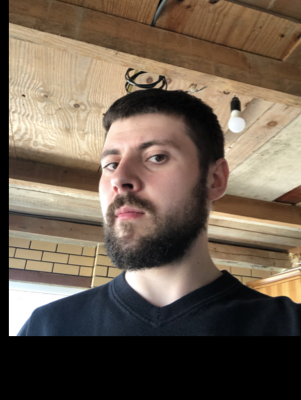without_mask: (98, 136, 192, 269)
